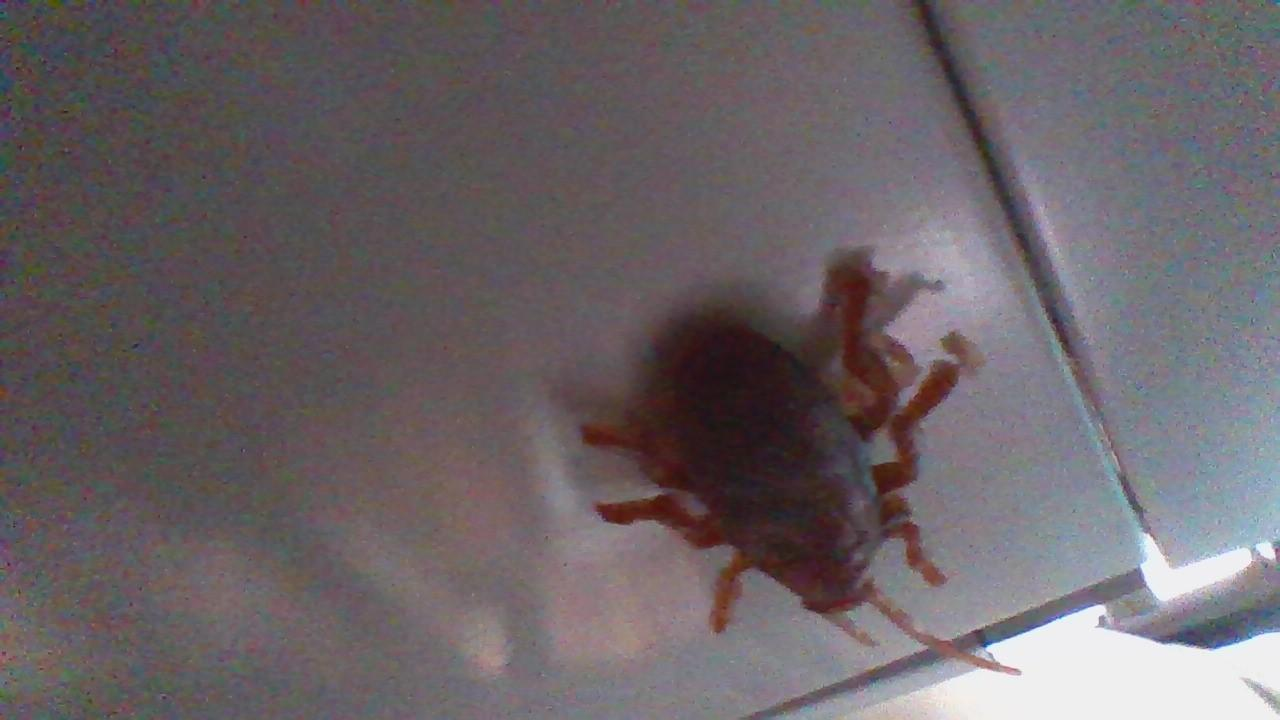cockroach: (528, 236, 1023, 681)
